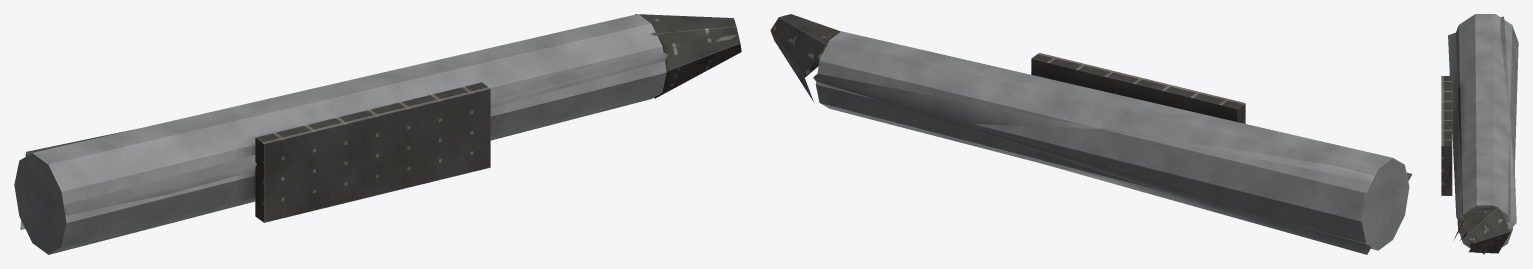
The model's file is prop_debris1.glb.
The picture shows the model from 3 angles, left to right: view 1: azimuth 30°, elevation 25°; view 2: azimuth 150°, elevation 25°; view 3: azimuth 270°, elevation 25°; orthographic projection. The views are drawn at different scales.
Parts seen in each view (by area): view 1: LOD0_body, LOD1_body; view 2: LOD0_body, LOD1_body; view 3: LOD0_body, LOD1_body.
Part boxes in pixels (box(x1,y1,x2,y2)): LOD0_body: box(14, 14, 741, 254); LOD1_body: box(20, 52, 667, 229); LOD0_body: box(770, 14, 1409, 250); LOD1_body: box(805, 44, 1412, 254); LOD0_body: box(1441, 14, 1518, 253); LOD1_body: box(1448, 16, 1516, 254).
Bounding box in the file's own units: 1 × 0.1258 × 0.1543.
Materials: 1 (1 with a texture image).
